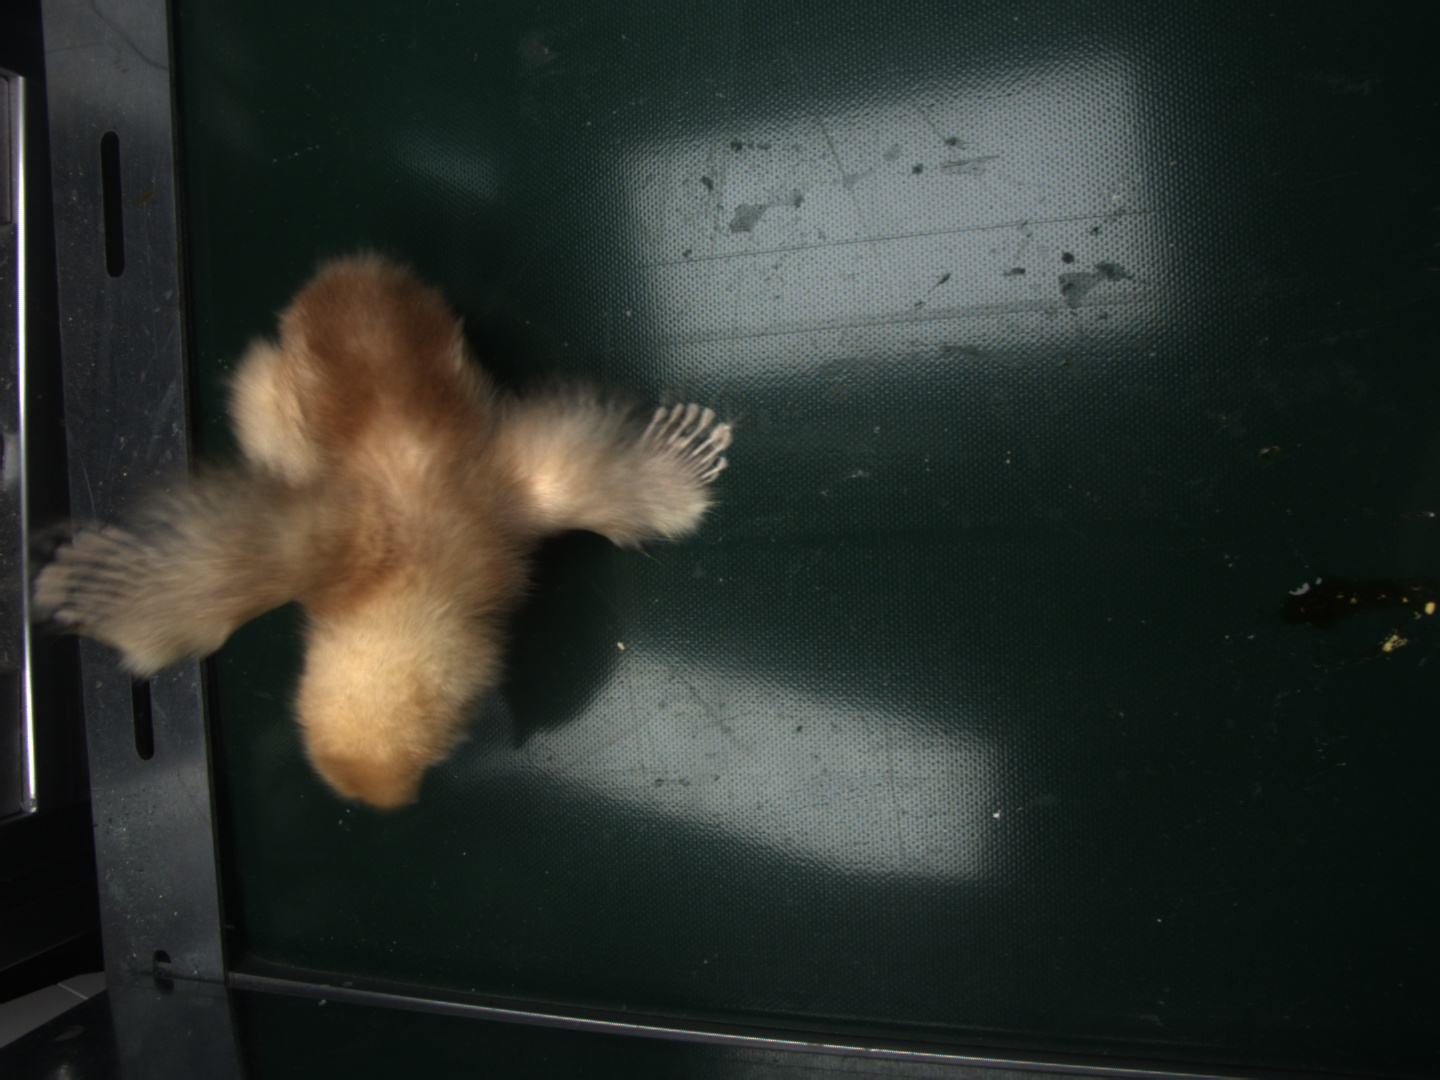female: (649, 404, 734, 479)
